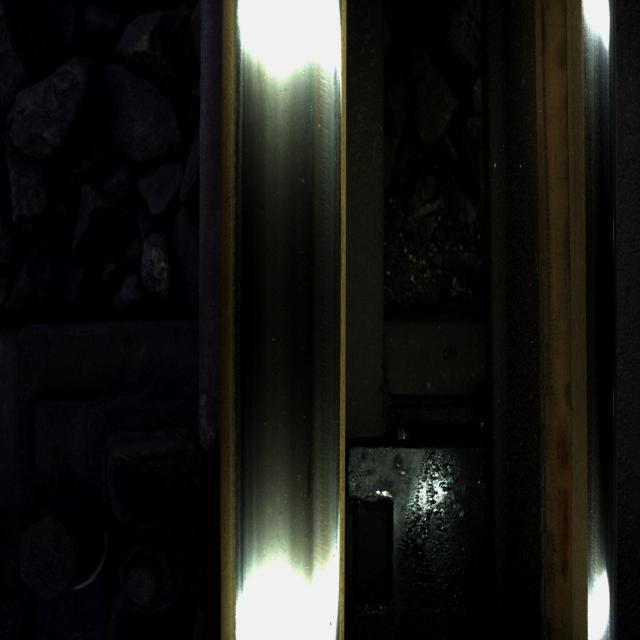break: (246, 51, 330, 582)
